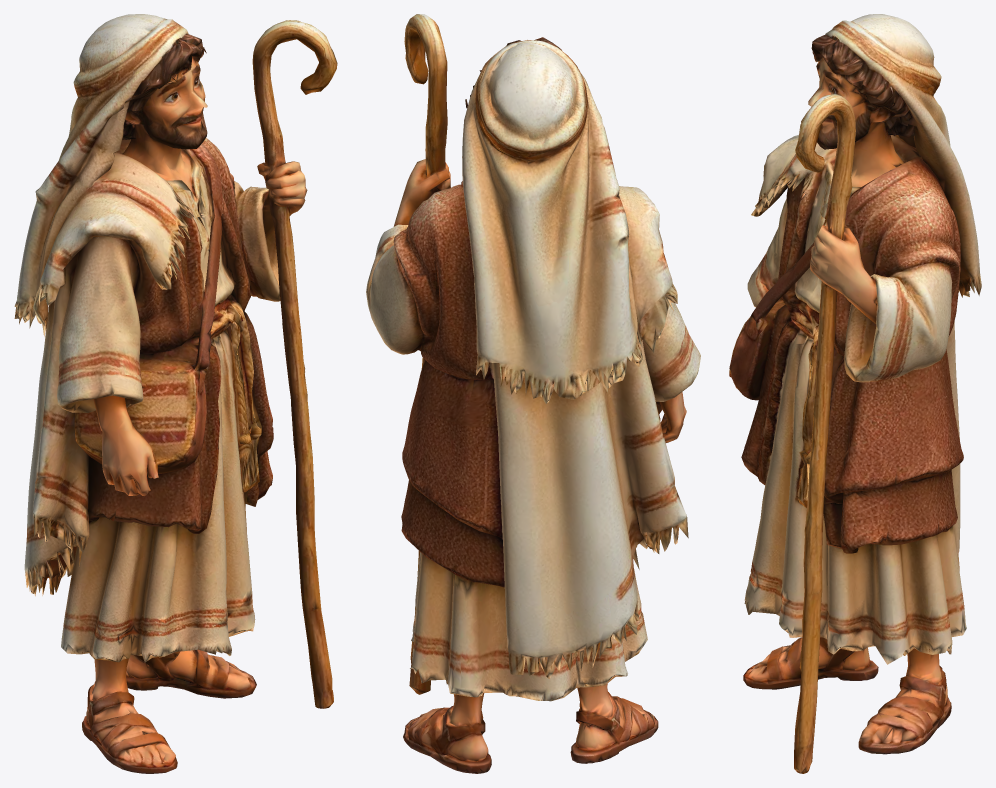
Rendered from shepherd1.glb.
The picture shows the model from 3 angles, left to right: view 1: azimuth 30°, elevation 25°; view 2: azimuth 150°, elevation 25°; view 3: azimuth 270°, elevation 25°; orthographic projection. The views are drawn at different scales.
Parts seen in each view (by area): view 1: tripo_node_323f84ca-e844-4c05-a985-1e5e47d62a64; view 2: tripo_node_323f84ca-e844-4c05-a985-1e5e47d62a64; view 3: tripo_node_323f84ca-e844-4c05-a985-1e5e47d62a64.
Boxes of the visible parts, box(x1,y1,x2,y2) form: tripo_node_323f84ca-e844-4c05-a985-1e5e47d62a64: box(14, 14, 337, 773); tripo_node_323f84ca-e844-4c05-a985-1e5e47d62a64: box(366, 14, 700, 773); tripo_node_323f84ca-e844-4c05-a985-1e5e47d62a64: box(729, 14, 981, 773).
Size of the model in its own units: 0.4262 by 0.9784 by 0.3275.
1 material, 1 textured.
